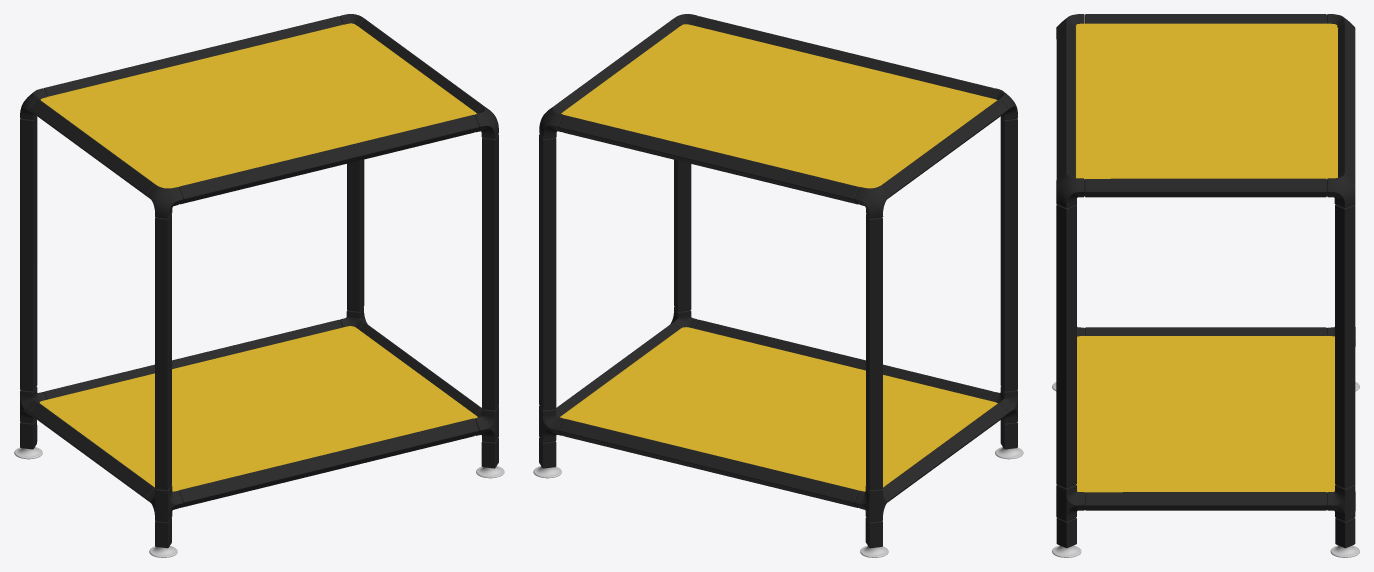
3 renders of one model, left to right at view 1: azimuth 30°, elevation 25°; view 2: azimuth 150°, elevation 25°; view 3: azimuth 270°, elevation 25°, orthographic. The views are drawn at different scales.
Parts seen in each view (by area): view 1: 479x329x420; view 2: 479x329x420; view 3: 479x329x420.
Boxes of the visible parts, left/top/right/bottom form: 479x329x420: left=14, top=14, right=504, bottom=557; 479x329x420: left=533, top=14, right=1023, bottom=557; 479x329x420: left=1052, top=14, right=1359, bottom=557.
Size of the model in its own units: 0.5689 by 0.5592 by 0.4183.
